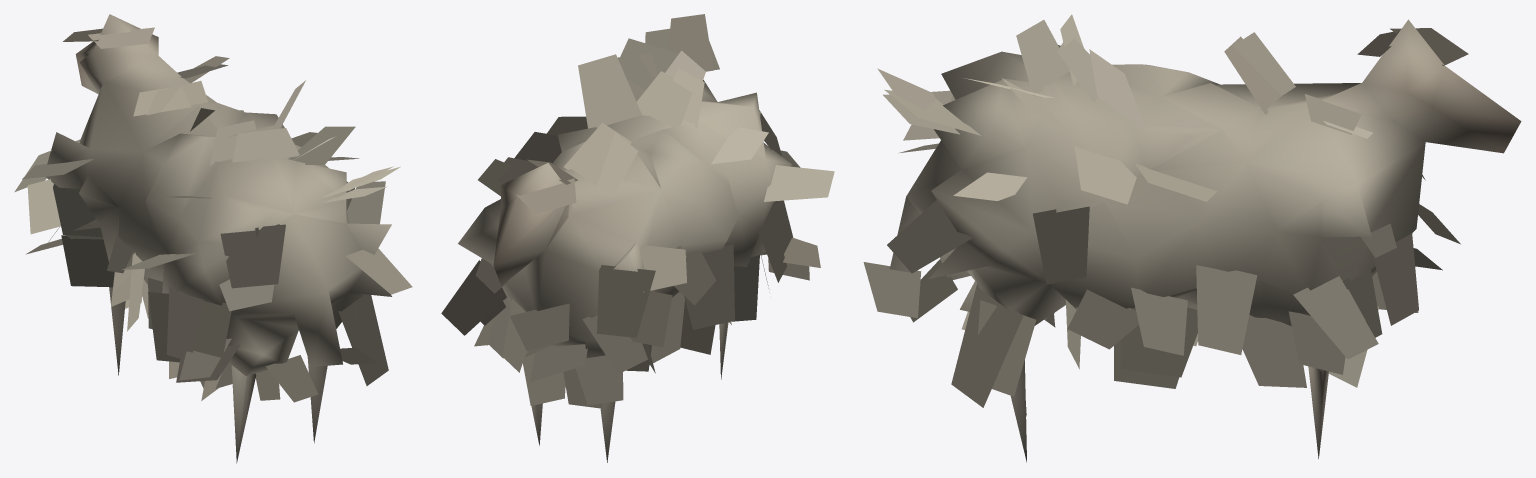
The model's file is animale_pecora_2_leggero.glb.
The picture shows the model from 3 angles, left to right: view 1: azimuth 30°, elevation 25°; view 2: azimuth 150°, elevation 25°; view 3: azimuth 270°, elevation 25°; orthographic projection. The views are drawn at different scales.
Parts seen in each view (by area): view 1: animale_pecora_2_leggero; view 2: animale_pecora_2_leggero; view 3: animale_pecora_2_leggero.
Part boxes in pixels (x1,y1,x2,y2): animale_pecora_2_leggero: [14, 14, 412, 463]; animale_pecora_2_leggero: [441, 14, 834, 462]; animale_pecora_2_leggero: [863, 14, 1521, 462].
Size of the model in its own units: 0.919 by 1.01 by 1.44.
